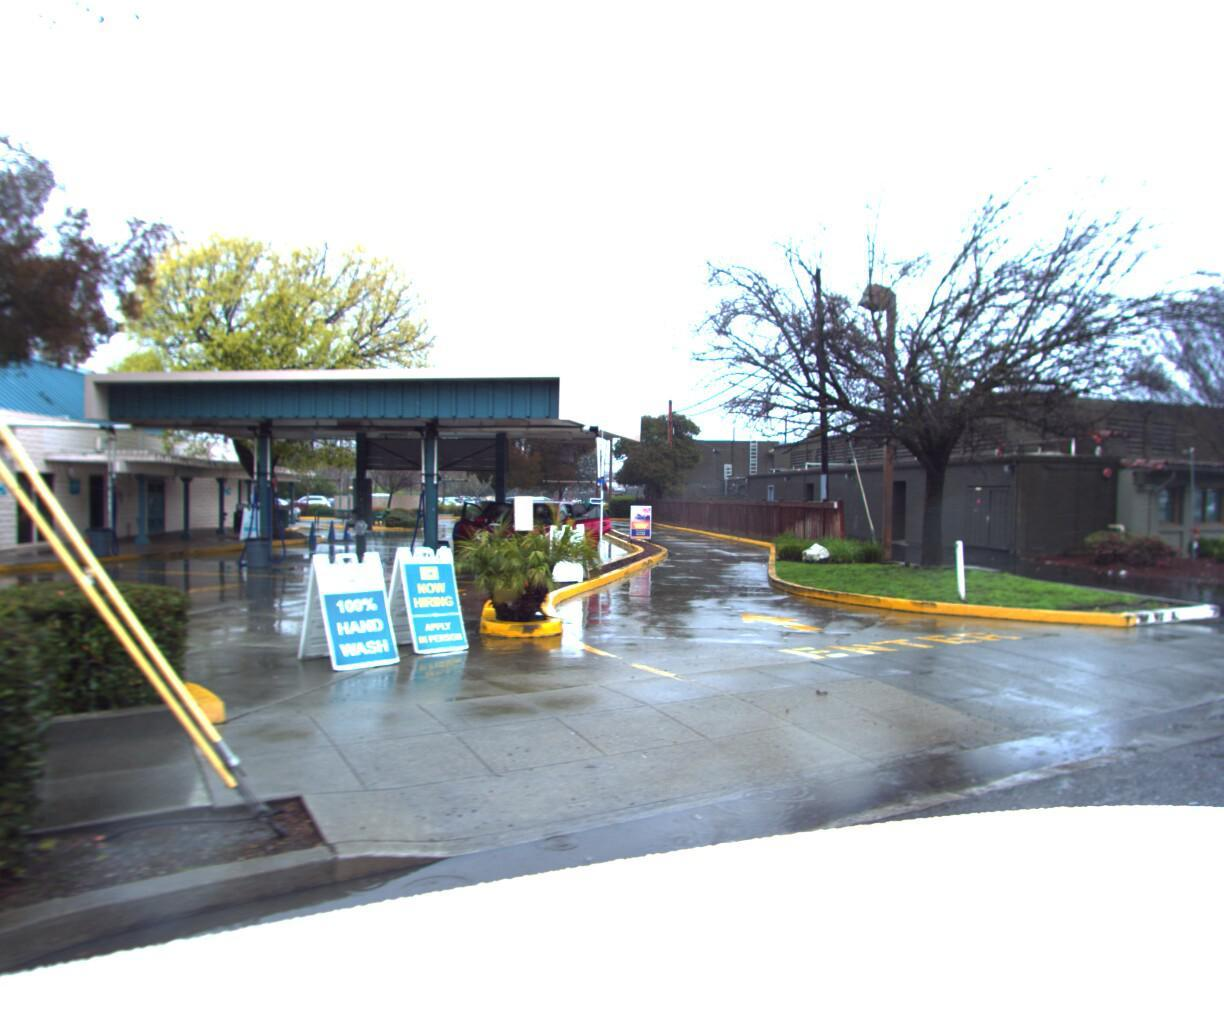car: (462, 497, 600, 580)
